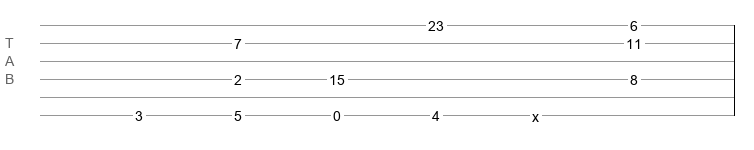0: (333, 108, 341, 118)
11: (626, 36, 642, 46)
15: (329, 72, 345, 82)
2: (234, 72, 242, 82)
23: (428, 18, 444, 28)
3: (135, 108, 143, 118)
4: (432, 108, 440, 118)
5: (234, 108, 242, 118)
6: (630, 18, 638, 28)
7: (234, 36, 242, 46)
8: (630, 72, 638, 82)
x: (532, 109, 539, 117)
